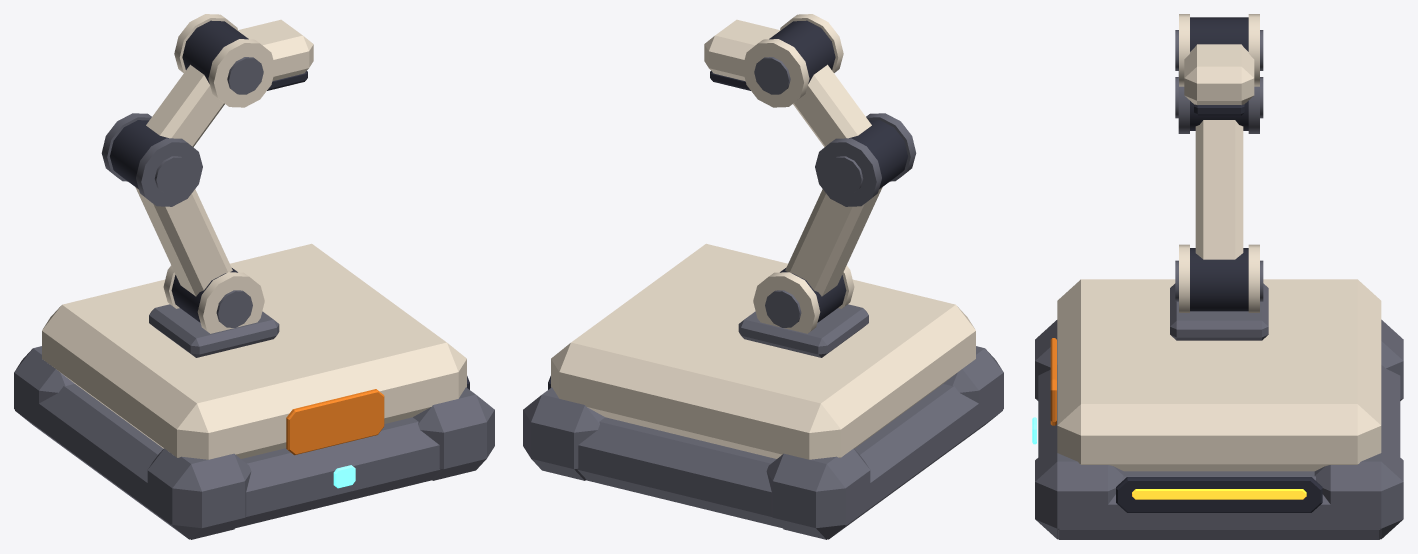
Rendered from pebble-dock.glb.
3 views of the same model, side by side, from view 1: azimuth 30°, elevation 25°; view 2: azimuth 150°, elevation 25°; view 3: azimuth 270°, elevation 25° (orthographic). The views are drawn at different scales.
Parts seen in each view (by area): view 1: Ivory platform shell, pebble-dock_smooth-structure_structure-gray, shoulder_smooth-structure, shoulder_smooth-structure_structure-gray, shoulder_dark-trim, Orange side charging panel, Arm bolted foot, Angled ivory charger head; view 2: Ivory platform shell, pebble-dock_smooth-structure_structure-gray, shoulder_smooth-structure, shoulder_smooth-structure_structure-gray, shoulder_dark-trim, Arm bolted foot, Angled ivory charger head; view 3: Ivory platform shell, pebble-dock_smooth-structure_structure-gray, shoulder_smooth-structure, shoulder_dark-trim, Guide lamp dark recess, Angled ivory charger head, Arm bolted foot, shoulder_smooth-structure_structure-gray, Amber docking guide, Orange side charging panel, Dark underside contact pad.
Boxes of the visible parts, x1=… form: Ivory platform shell: x1=42, y1=243, x2=466, y2=459; pebble-dock_smooth-structure_structure-gray: x1=14, y1=346, x2=494, y2=539; shoulder_smooth-structure: x1=135, y1=14, x2=275, y2=333; shoulder_smooth-structure_structure-gray: x1=101, y1=57, x2=263, y2=327; shoulder_dark-trim: x1=110, y1=20, x2=248, y2=322; Orange side charging panel: x1=286, y1=389, x2=384, y2=455; Arm bolted foot: x1=149, y1=304, x2=279, y2=357; Angled ivory charger head: x1=237, y1=19, x2=313, y2=81; Ivory platform shell: x1=551, y1=243, x2=975, y2=459; pebble-dock_smooth-structure_structure-gray: x1=523, y1=346, x2=1003, y2=539; shoulder_smooth-structure: x1=742, y1=14, x2=882, y2=333; shoulder_smooth-structure_structure-gray: x1=754, y1=57, x2=916, y2=327; shoulder_dark-trim: x1=769, y1=20, x2=907, y2=322; Arm bolted foot: x1=738, y1=304, x2=868, y2=357; Angled ivory charger head: x1=704, y1=19, x2=780, y2=81; Ivory platform shell: x1=1057, y1=279, x2=1381, y2=471; pebble-dock_smooth-structure_structure-gray: x1=1035, y1=319, x2=1403, y2=539; shoulder_smooth-structure: x1=1179, y1=14, x2=1259, y2=312; shoulder_dark-trim: x1=1190, y1=17, x2=1248, y2=311; Guide lamp dark recess: x1=1116, y1=477, x2=1322, y2=512; Angled ivory charger head: x1=1184, y1=44, x2=1254, y2=104; Arm bolted foot: x1=1170, y1=283, x2=1268, y2=340; shoulder_smooth-structure_structure-gray: x1=1175, y1=30, x2=1263, y2=301; Amber docking guide: x1=1132, y1=489, x2=1306, y2=499; Orange side charging panel: x1=1050, y1=338, x2=1056, y2=425; Dark underside contact pad: x1=1194, y1=104, x2=1244, y2=115.
Bounding box in the file's own units: 1.23 × 1.51 × 1.17.
